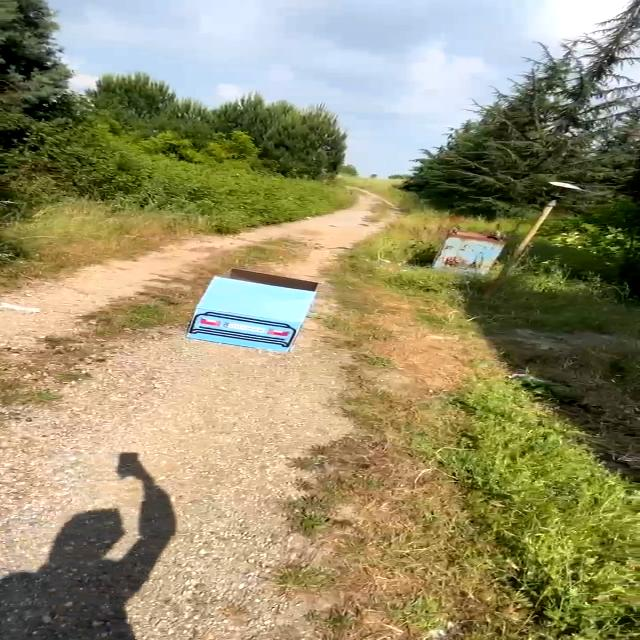blue_car: (164, 262, 351, 361)
